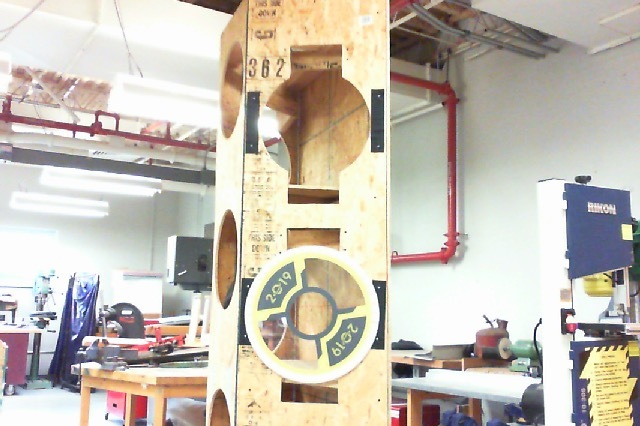Hatch: (244, 246, 380, 384)
